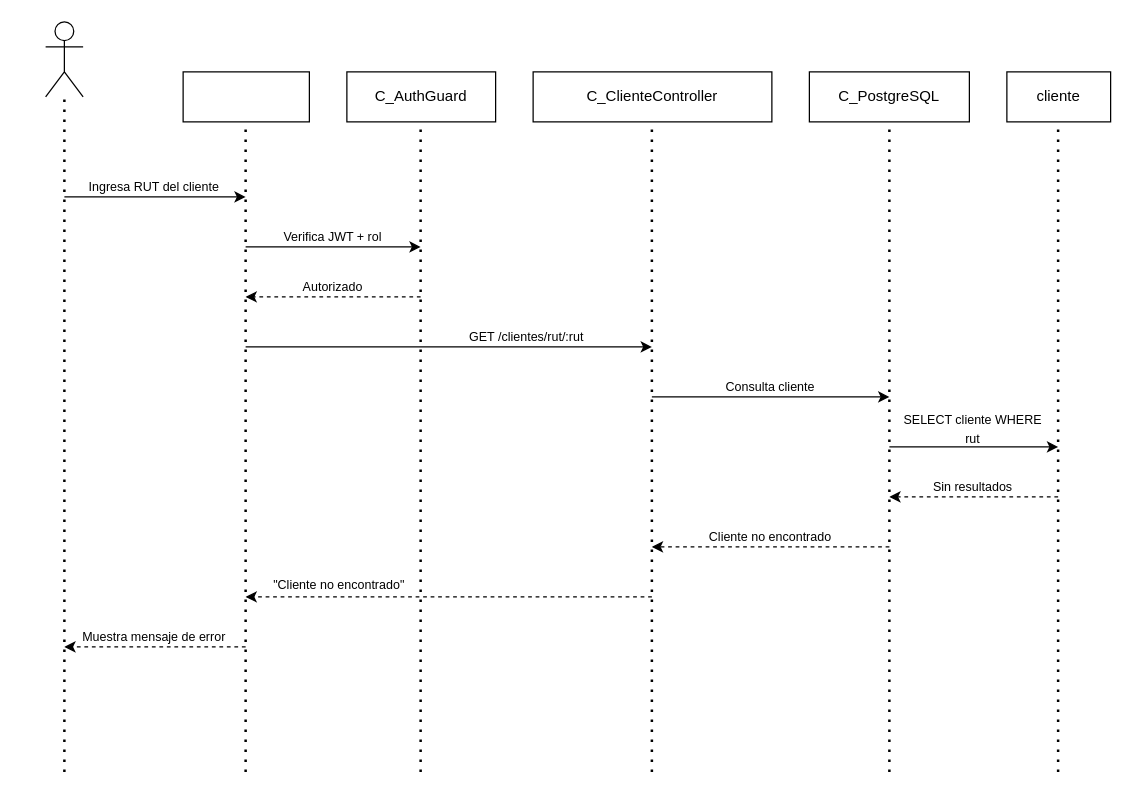
This 1133x796 diagram has some shape labels left out. Here are the shapes that lost their labels. From the top down, the centre of each, then its label:
At [63,59]: "Jefe Técnico".
At [245,96]: "V_CrearOT".
